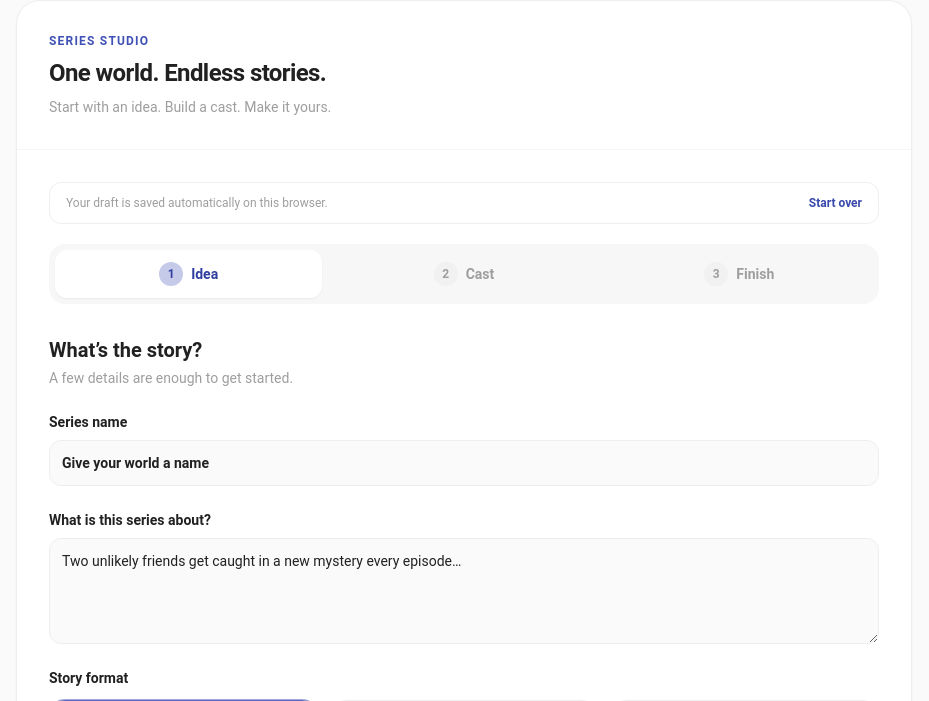
Scenario: reports browser storage errors instead of claiming the draft is saved
Type "Important draft" into the field labelled "Series name" at coordinates (464, 463), box [49, 440, 879, 486]
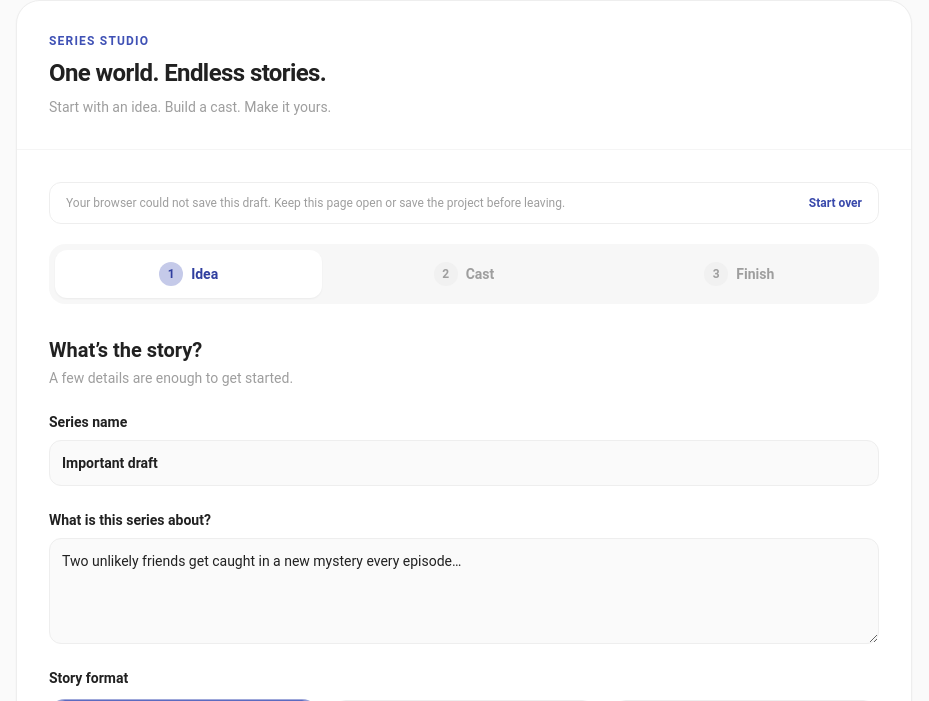
Expected: the message shows "could not save this draft", [66, 196, 565, 210]
